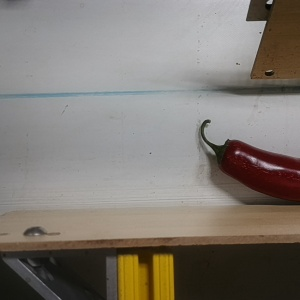Cut Point: (210, 137, 242, 173)
